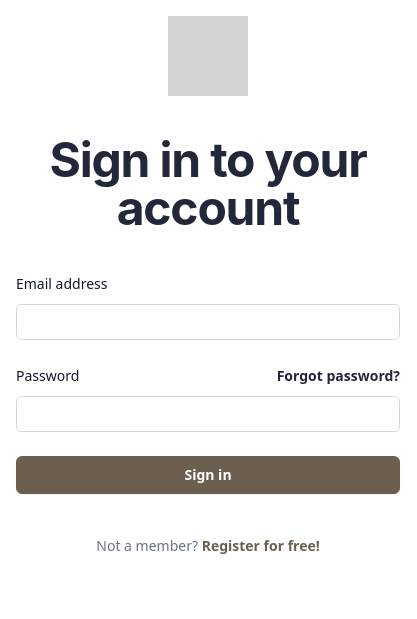
SignIn Component › shows validation error for short password
This screenshot has width=417, height=619.
Type "12345" into the password field labelled "Password" at (208, 414), box x1=16 y1=396 x2=400 y2=432
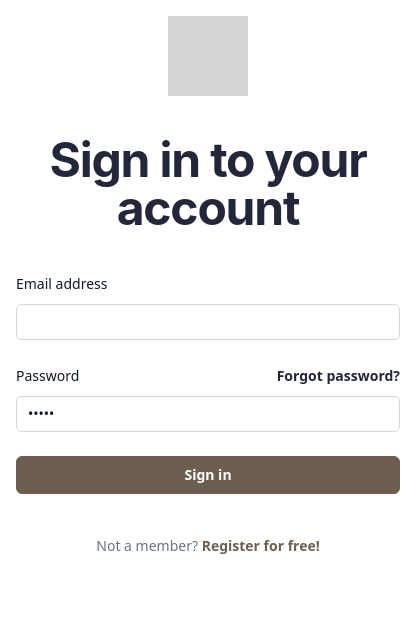
Note: Submit the form to trigger validation error rendering
Click the button "Sign in" at (208, 475), box x1=16 y1=456 x2=400 y2=494
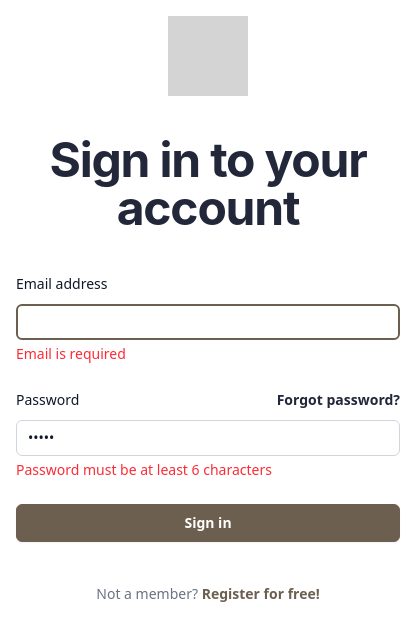
expect the text "Password must be at least 6 characters" is shown: met, box x1=16 y1=460 x2=272 y2=479
